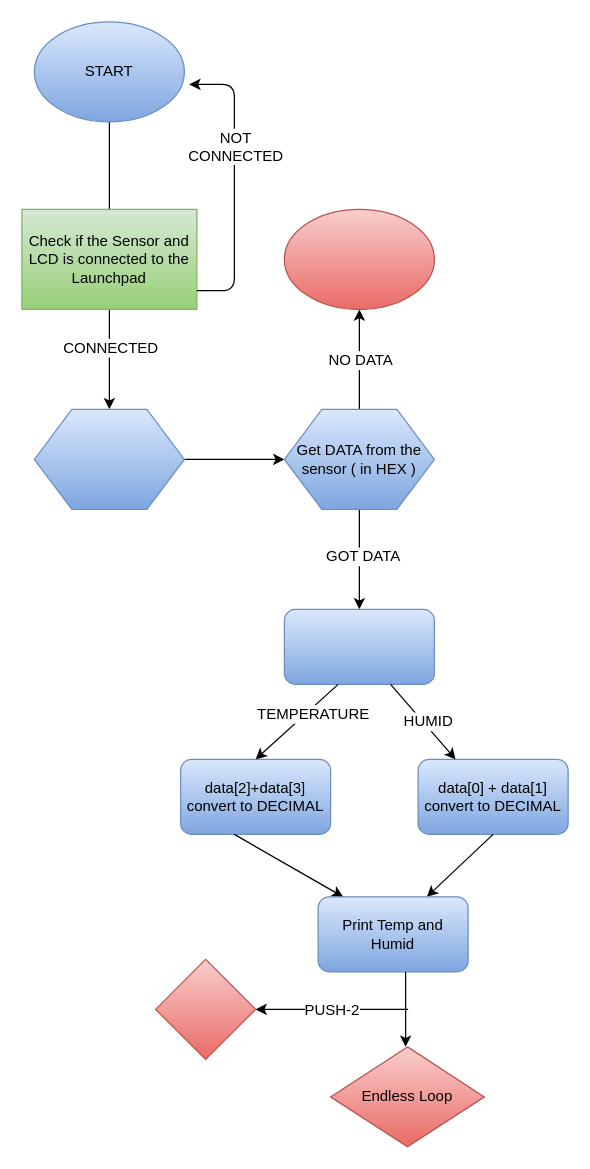
Image size: 590x1169. Some labels were removed from this diagram. The box of each missing label's shape, as (x1, y1, x2, y2) in pixels:
END: (154, 958, 256, 1059)
Print " DO AN 1 TM4C123" on LCD and begin: (33, 408, 184, 509)
Print:" Failed to read from DHT": (283, 208, 434, 309)
Take 5 data received from the Sensor: (283, 608, 434, 684)
